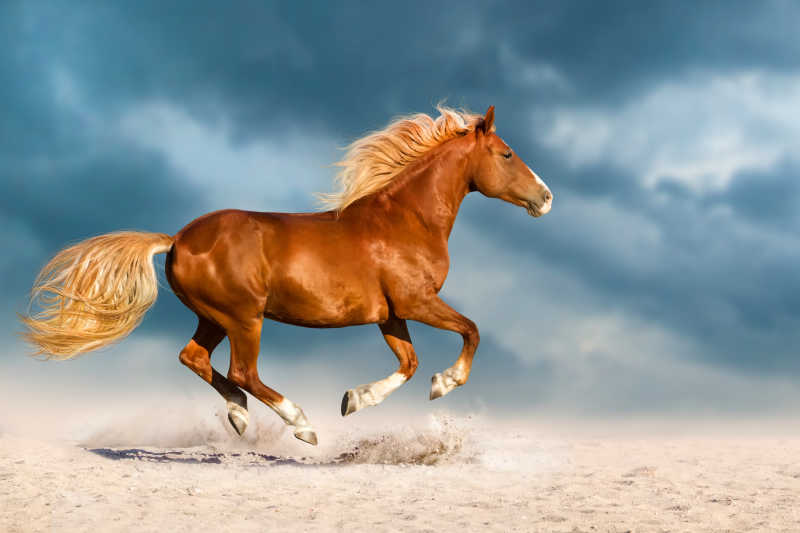horse: (18, 102, 553, 447)
